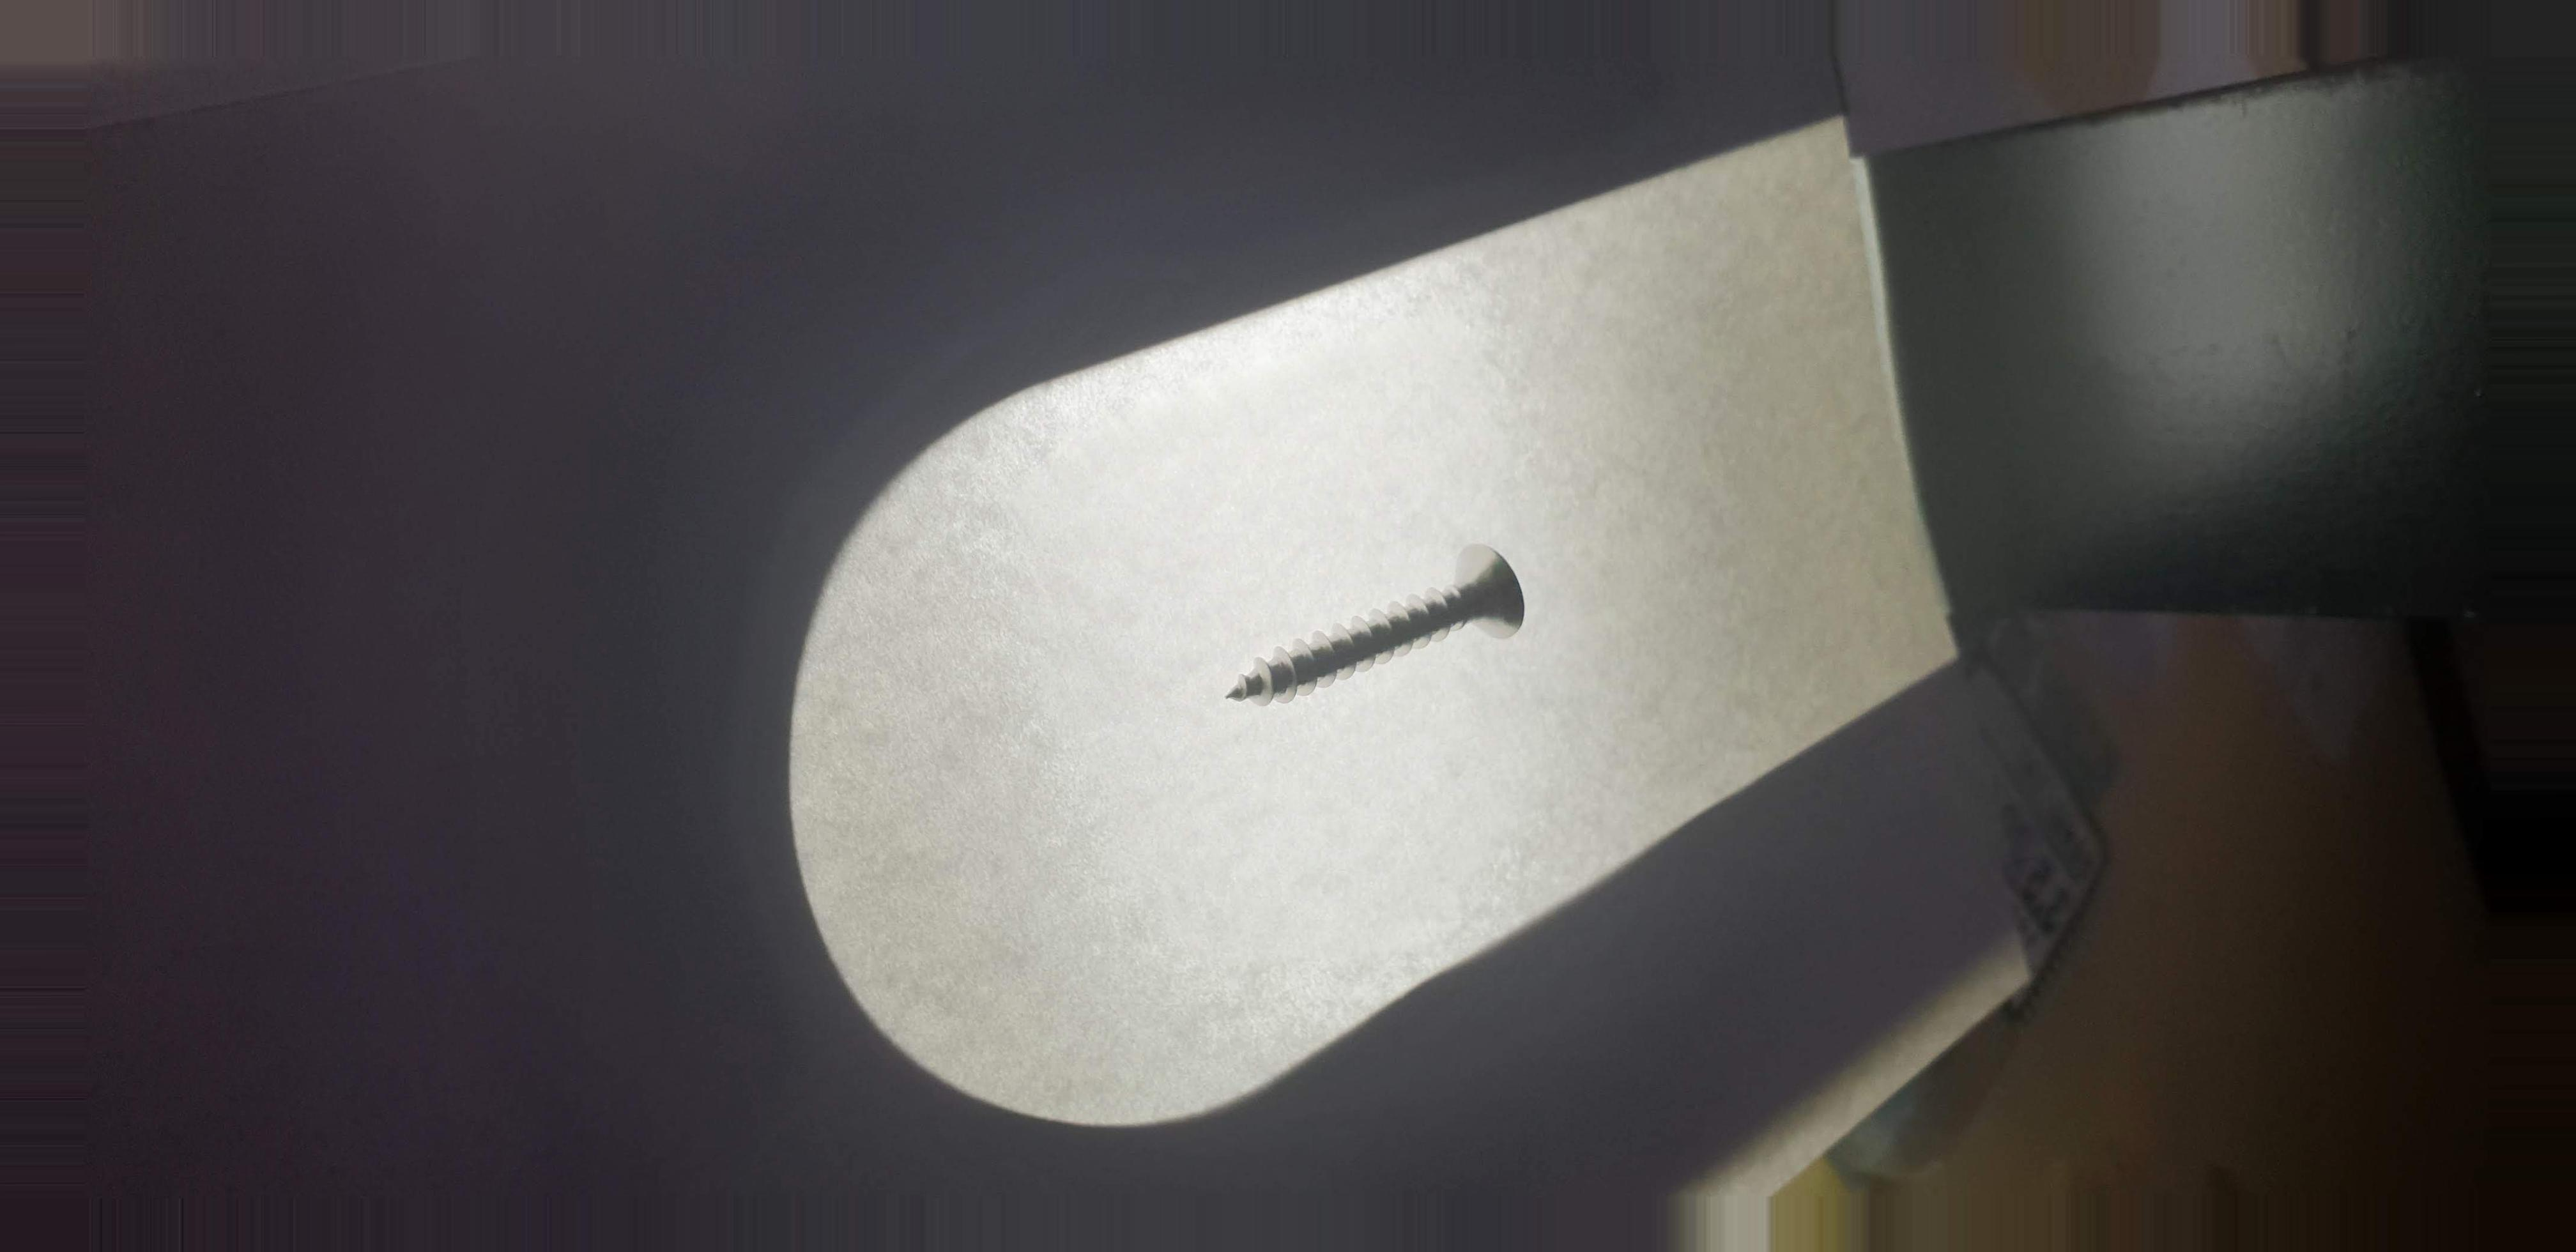S004: (1175, 516, 1584, 746)
